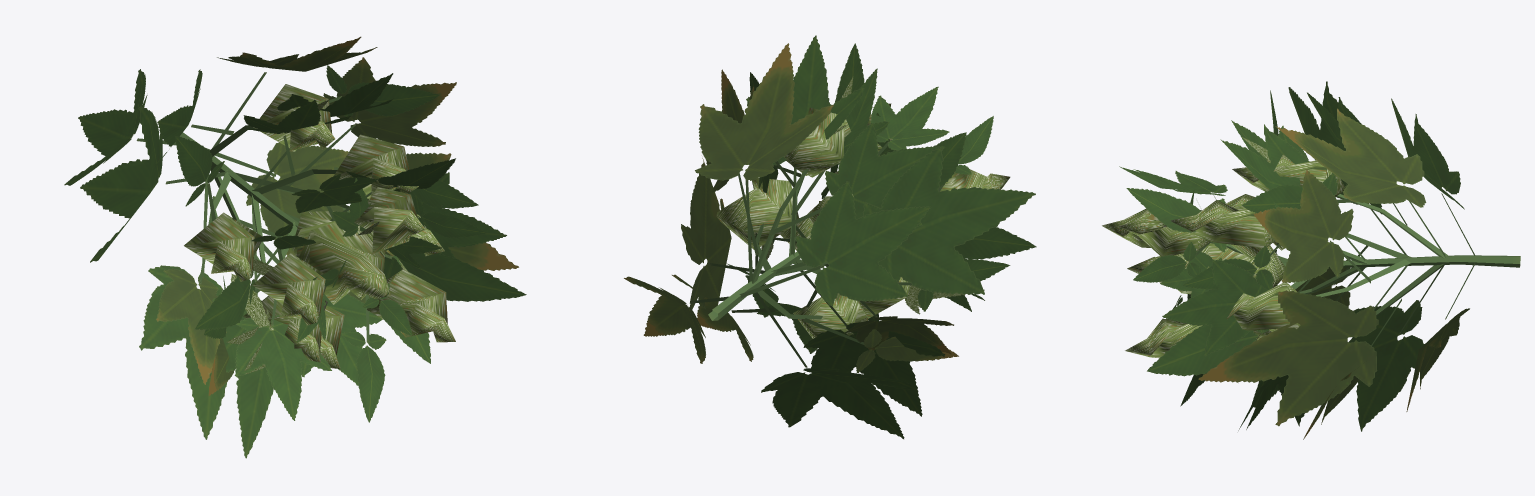
The model's file is p_afghan_ripe_c0_cards.obj.
3 views of the same model, side by side, from view 1: azimuth 30°, elevation 25°; view 2: azimuth 150°, elevation 25°; view 3: azimuth 270°, elevation 25° (orthographic). The views are drawn at different scales.
Bounding box in the file's own units: 1.47 × 1.4 × 1.26.
1 material, 1 textured.
